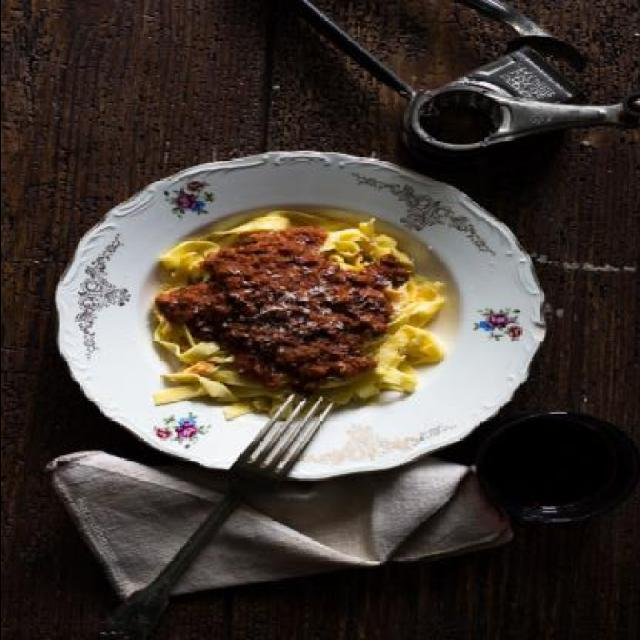Pasta al ragu: (138, 200, 496, 446)
